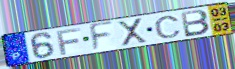6: (29, 31, 56, 60)
B: (179, 8, 212, 38)
C: (153, 15, 183, 39)
F: (88, 20, 116, 54), (55, 26, 83, 56)
X: (116, 17, 149, 47)
